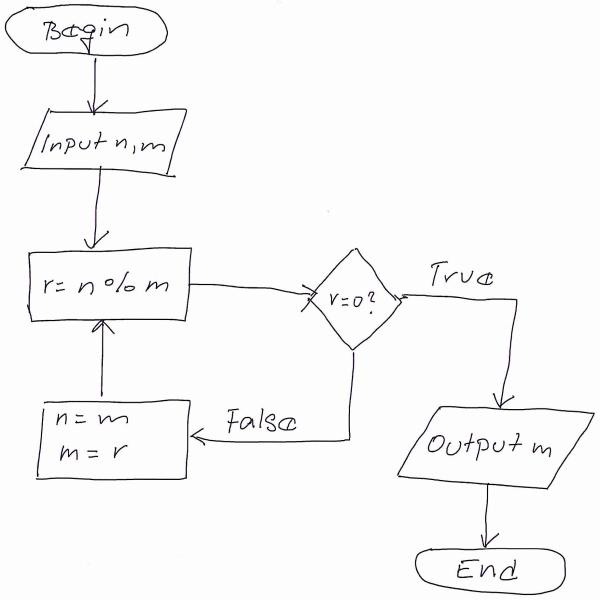arrow: (189, 342, 375, 458), (409, 263, 546, 410), (193, 268, 318, 316), (72, 312, 137, 397), (72, 168, 114, 252), (469, 470, 507, 553), (75, 54, 104, 112)
data: (396, 403, 596, 496), (22, 109, 188, 177)
decision: (308, 249, 403, 349)
process: (23, 246, 194, 322), (37, 400, 193, 482)
terminator: (409, 544, 574, 600), (5, 7, 169, 56)
text: (39, 128, 169, 162), (43, 269, 172, 303), (36, 13, 138, 53), (222, 403, 308, 439), (429, 260, 508, 295), (325, 286, 385, 318)
